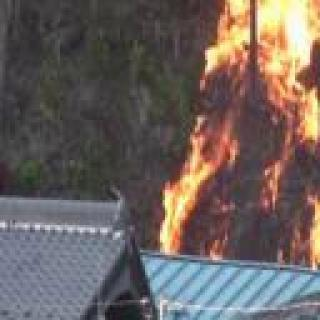fire: (159, 0, 320, 269)
